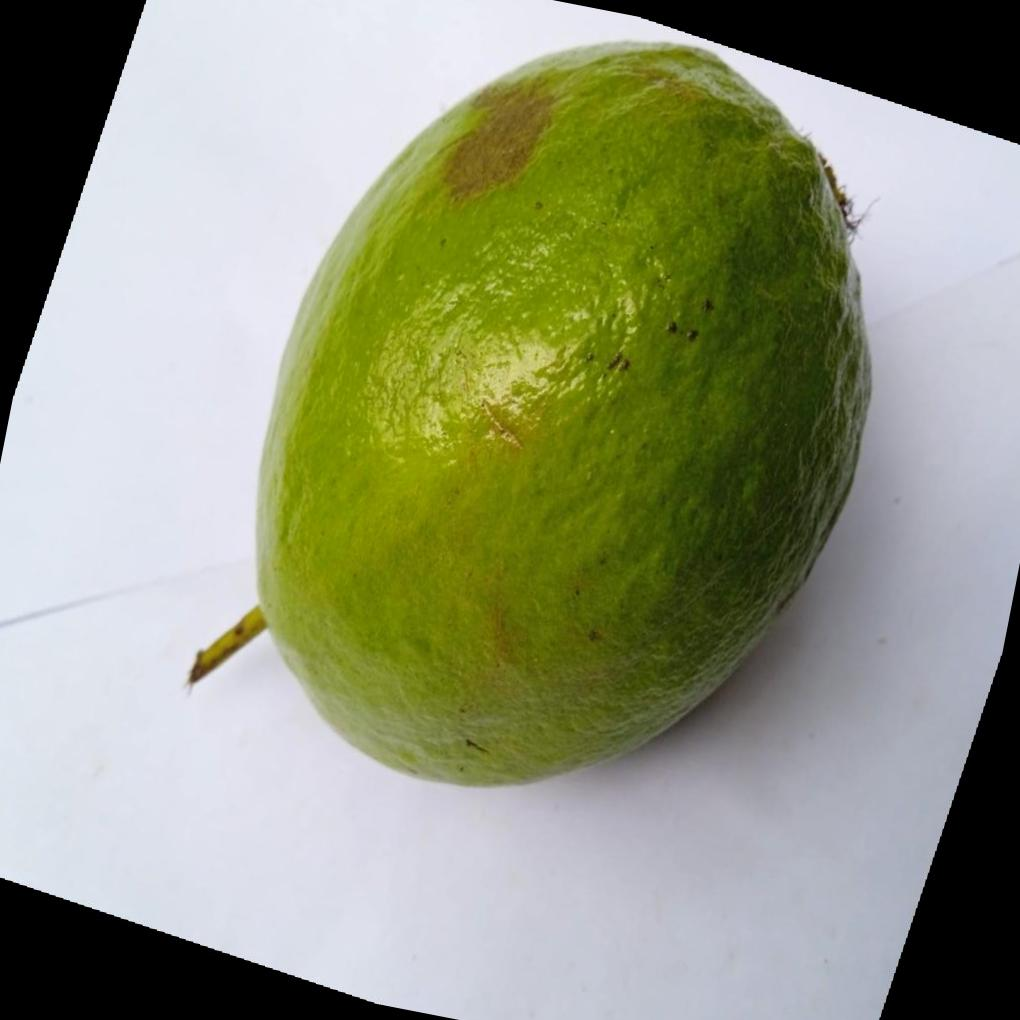FreshGuava: (190, 40, 877, 790)
